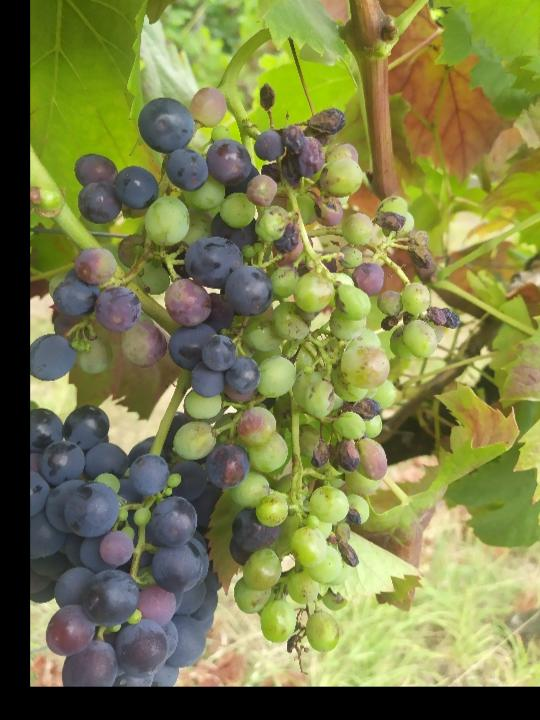grape: (35, 84, 459, 661)
